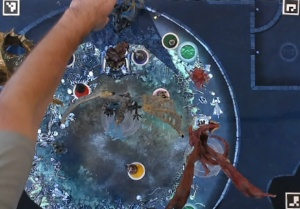green: (158, 30, 179, 51)
pink: (150, 85, 172, 105)
red: (71, 80, 90, 98)
violet: (128, 48, 150, 69)
yellow: (123, 158, 148, 181)
